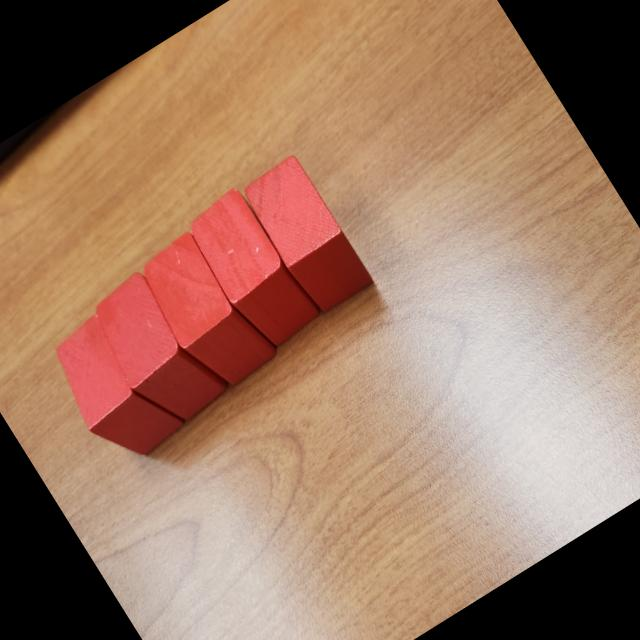red: (77, 259, 236, 439), (127, 222, 283, 403), (37, 302, 192, 476), (178, 184, 324, 356), (236, 152, 377, 318)
